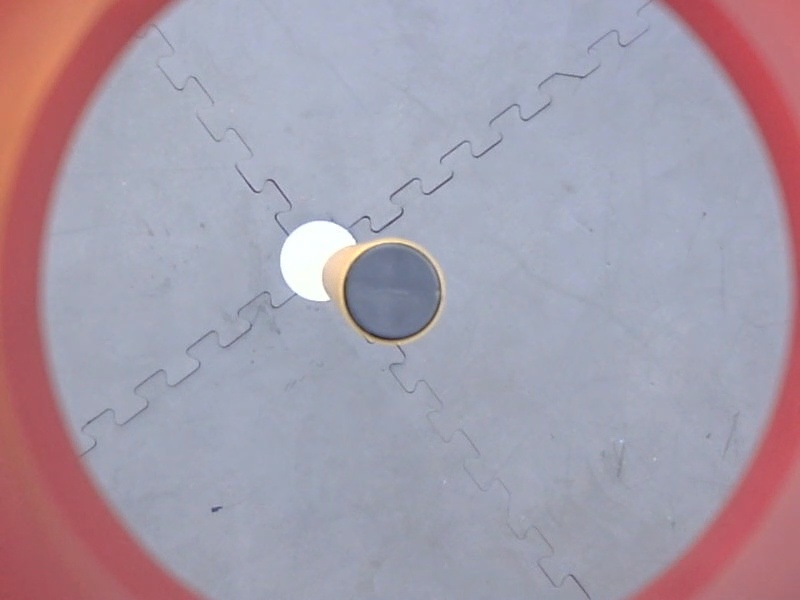tip: (337, 235, 450, 353)
